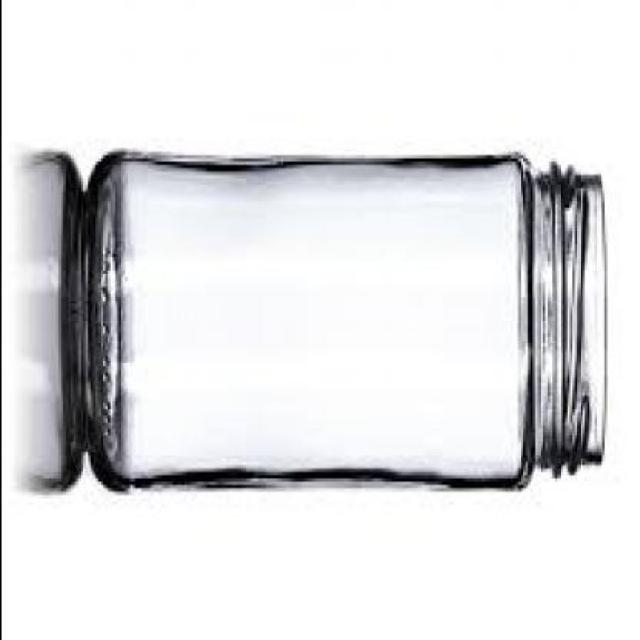GLASS: (80, 155, 608, 494)
